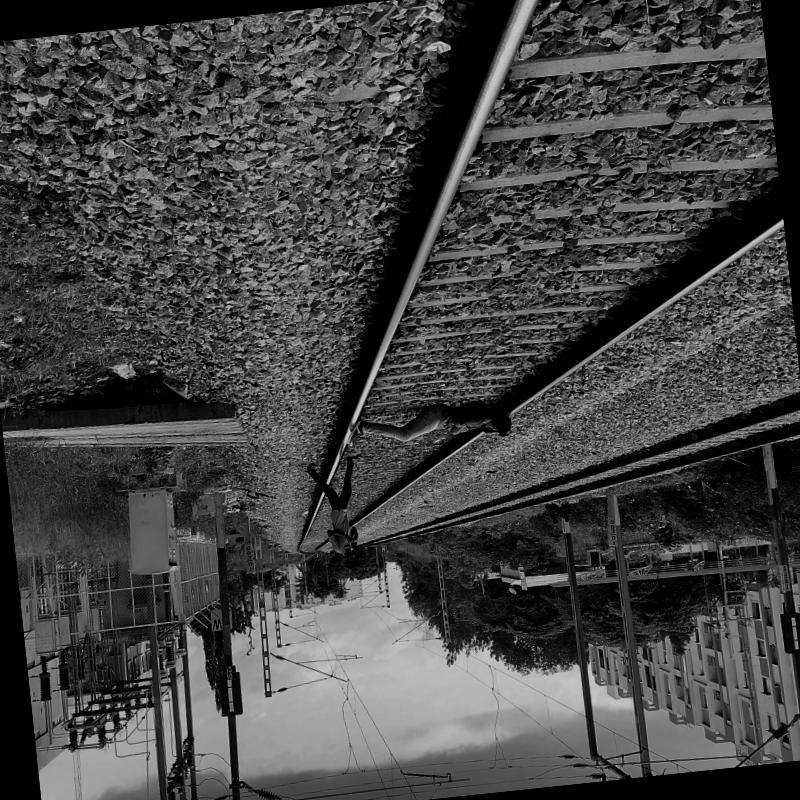sleeping: (342, 384, 516, 453)
